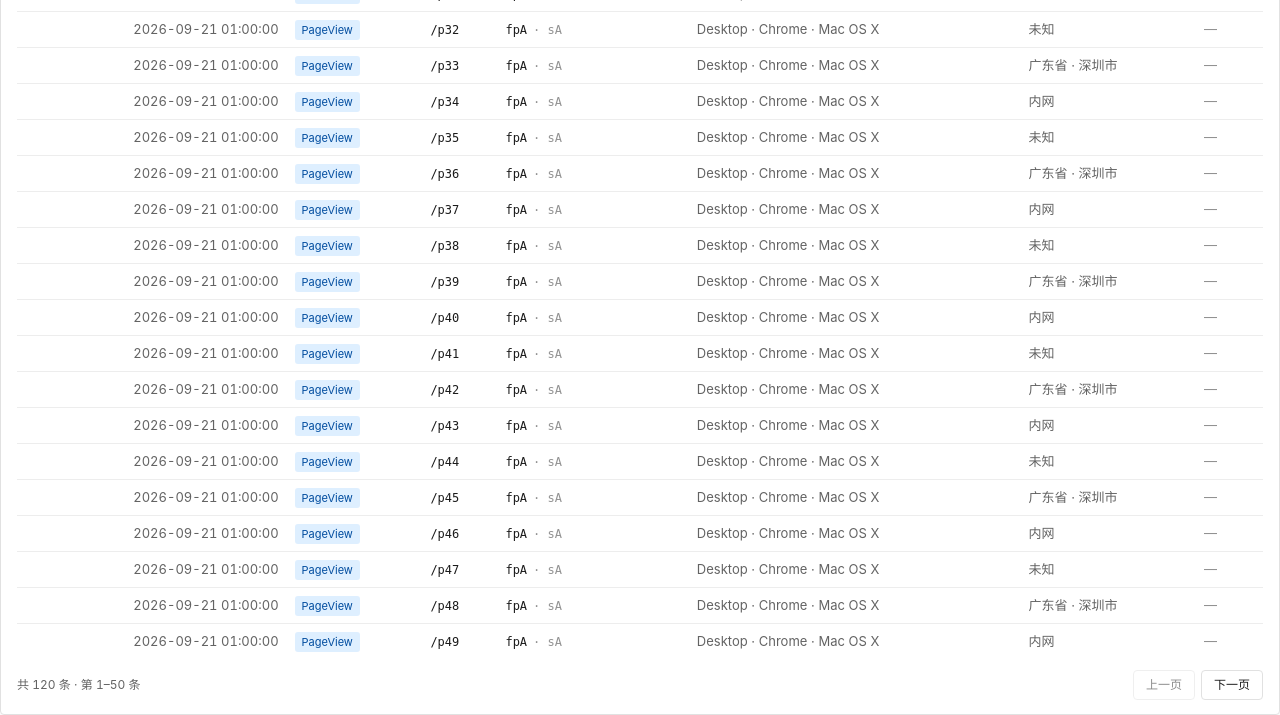
Scenario: 事件明细板块 › 分页按钮改变 offset 并重新请求
(page scrolled)
Expected: the text "共 120 条 · 第 1–50 条" is shown, [17,676,140,694]
Click the button "下一页" at (1232, 684), box [1201,670,1263,700]
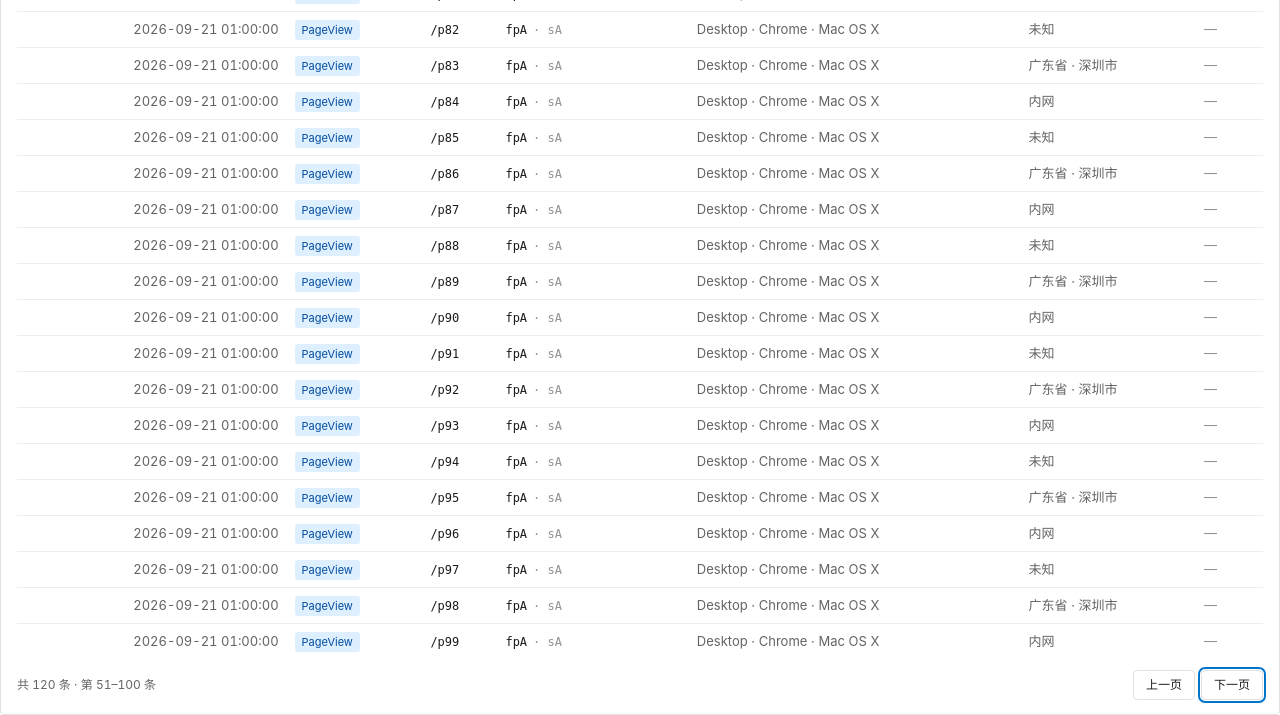
Result: the text "共 120 条 · 第 51–100 条" is shown at [17,676,156,694]
